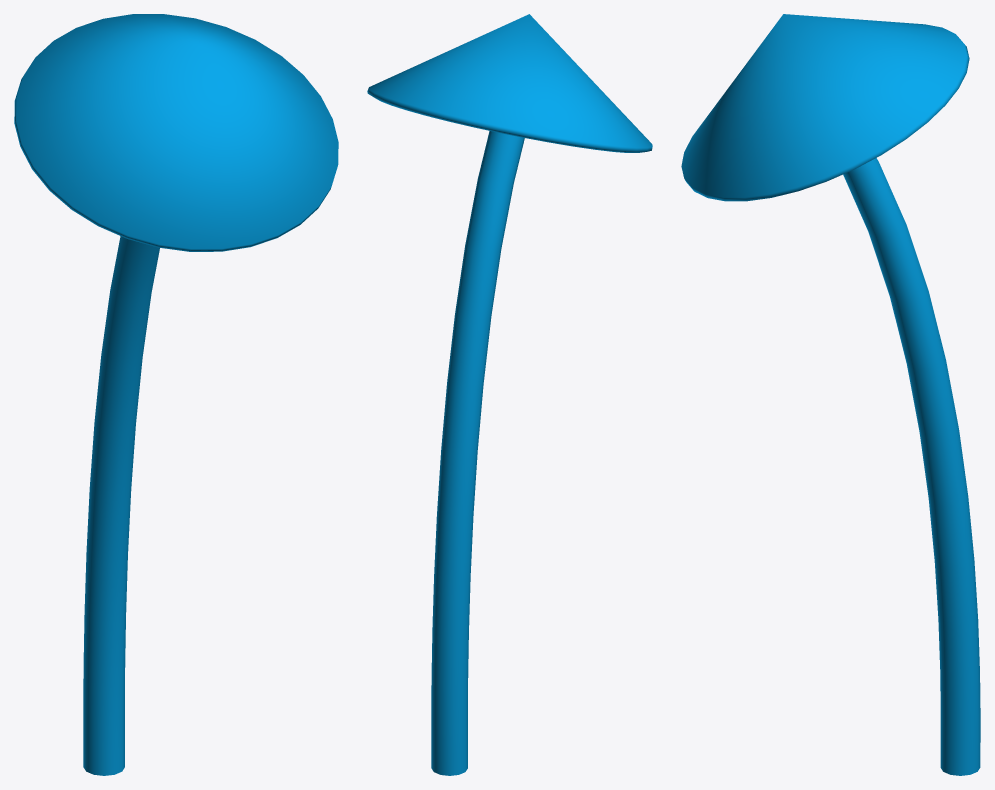
File: Seta_Azul_Patron.glb
3 views of the same model, side by side, from view 1: azimuth 30°, elevation 25°; view 2: azimuth 150°, elevation 25°; view 3: azimuth 270°, elevation 25° (orthographic). The views are drawn at different scales.
Parts seen in each view (by area): view 1: BézierCurve; view 2: BézierCurve; view 3: BézierCurve.
Boxes of the visible parts, x1=… form: BézierCurve: x1=14, y1=14, x2=338, y2=775; BézierCurve: x1=367, y1=14, x2=652, y2=775; BézierCurve: x1=681, y1=14, x2=980, y2=775.
Bounding box in the file's own units: 0.6399 × 1.67 × 0.6017.
